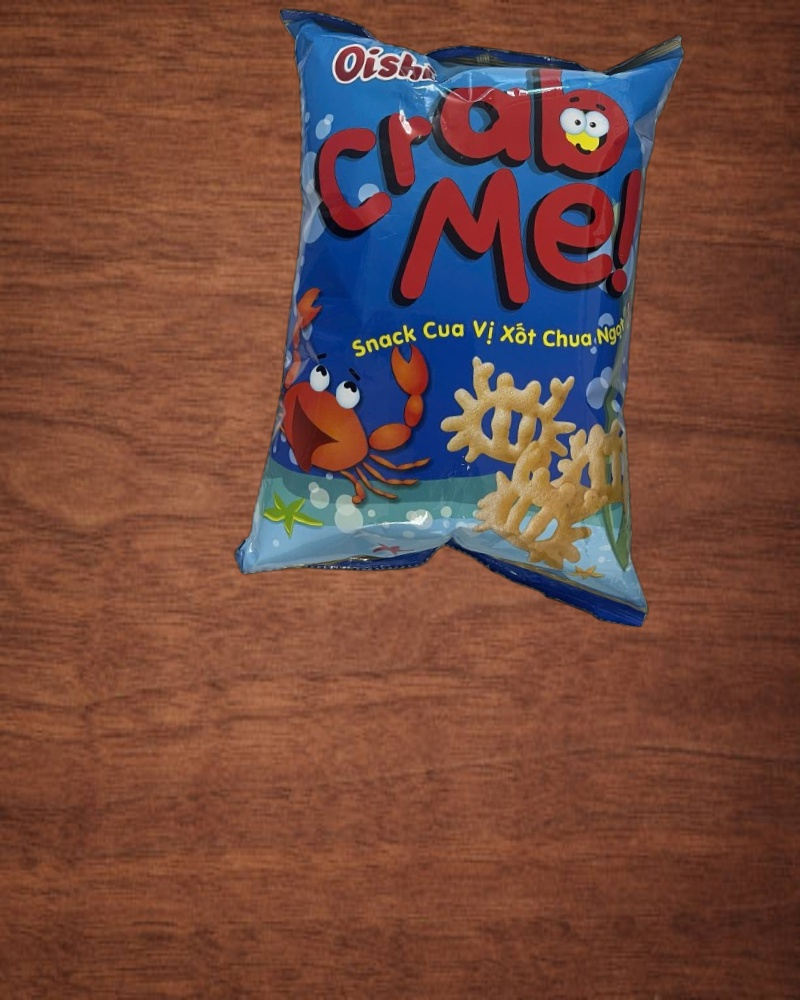Snack cua: (231, 1, 698, 622)
